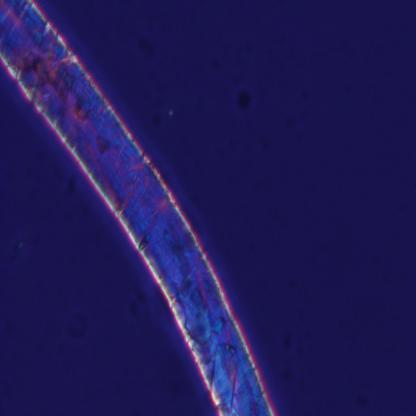Microfibre: (0, 0, 275, 416)
